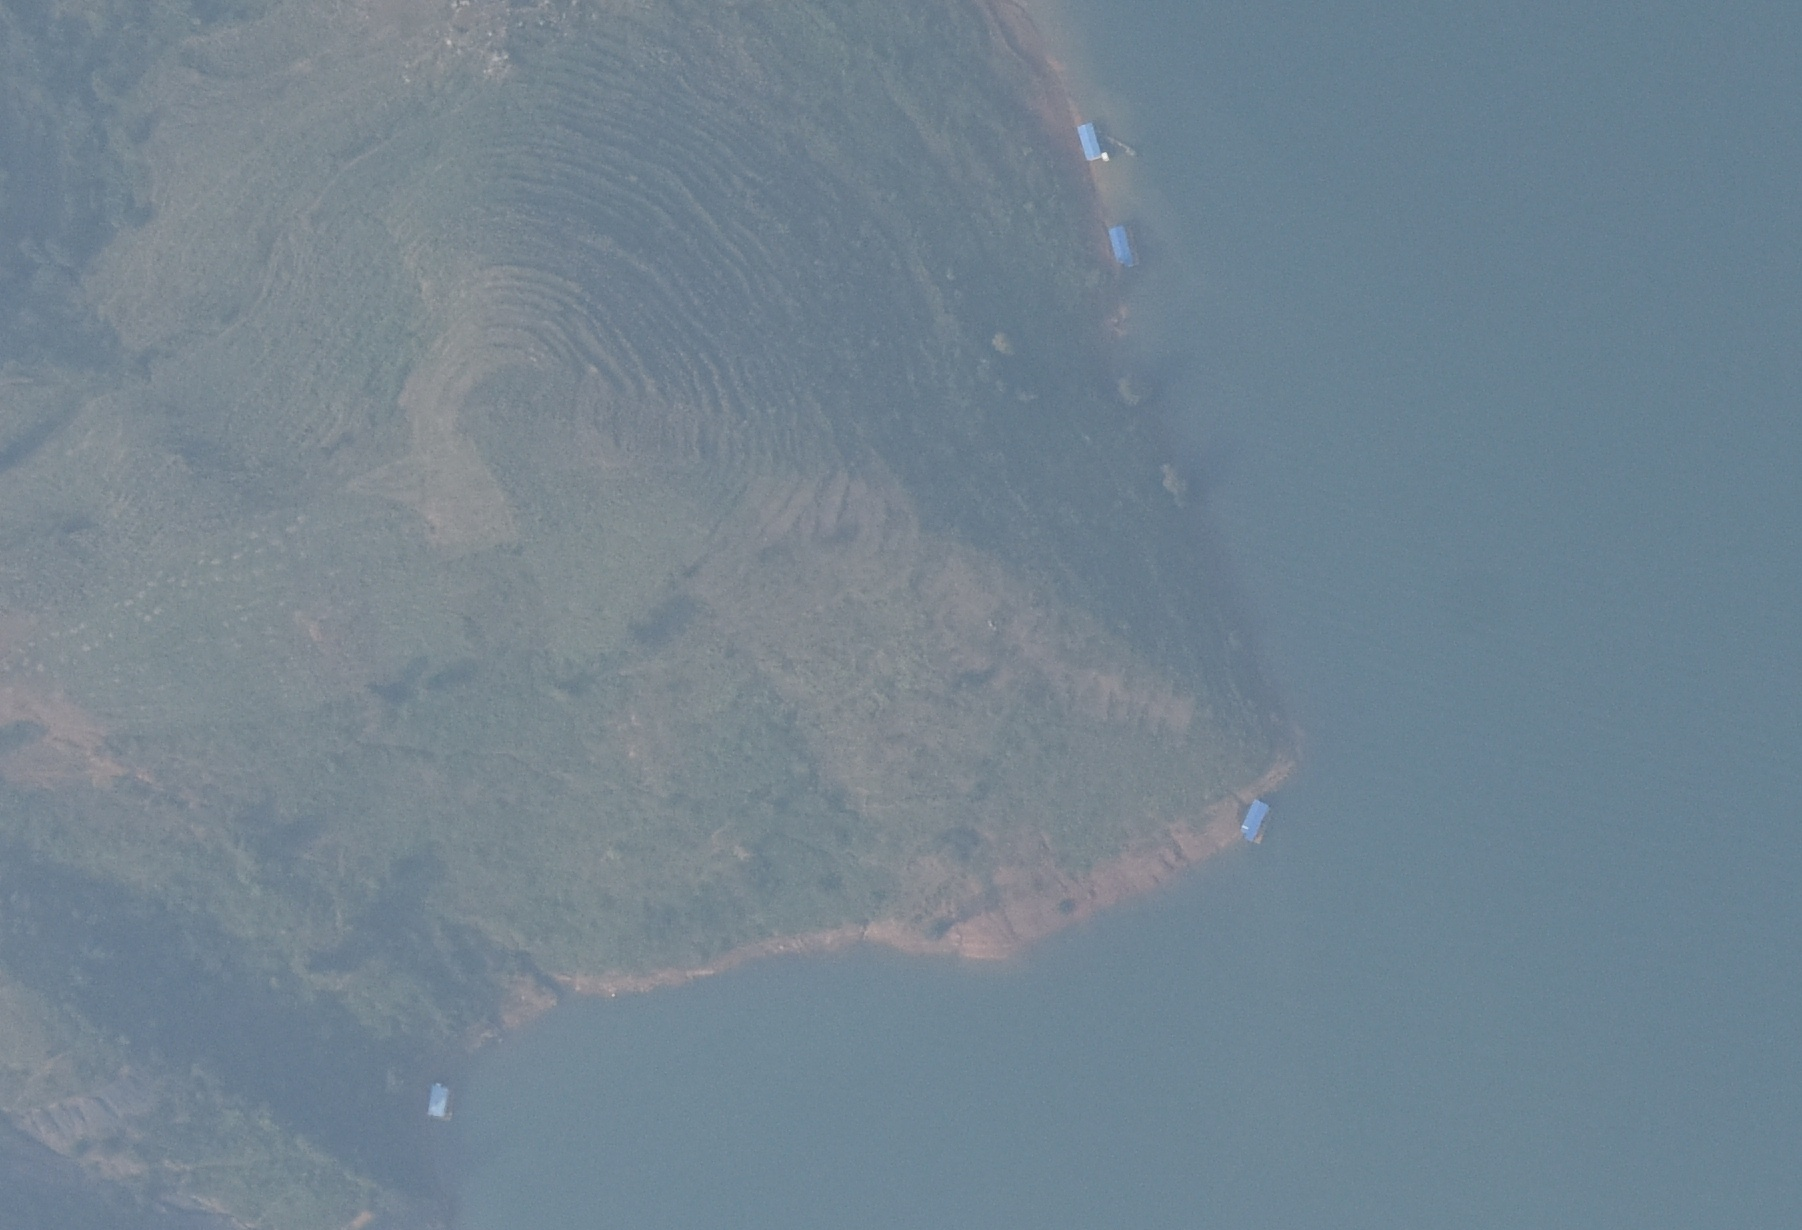prefabricated-house: (1106, 222, 1143, 268), (1239, 799, 1272, 842), (1072, 121, 1104, 162), (424, 1082, 450, 1120)
